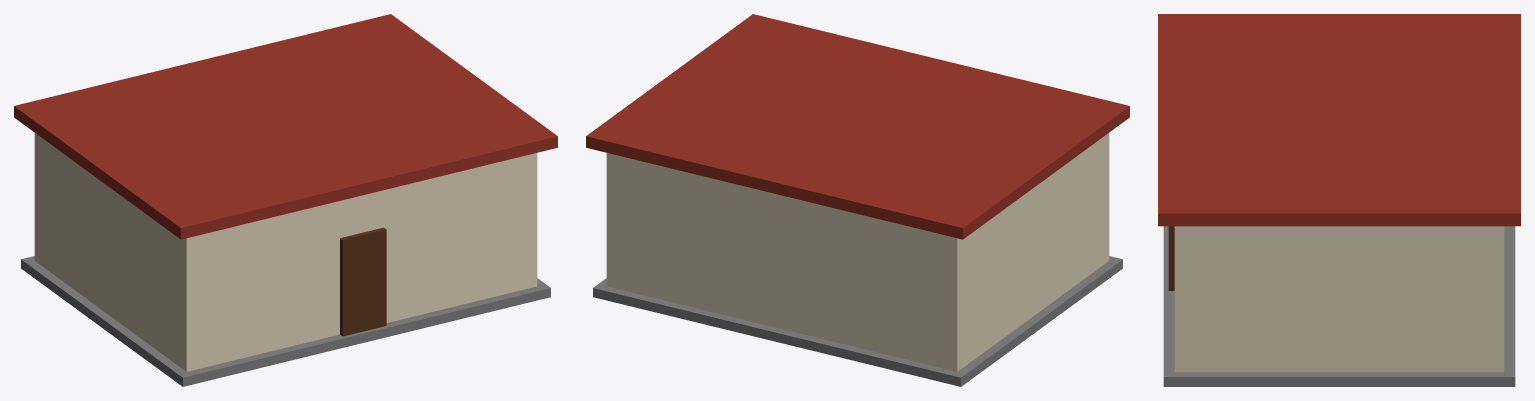
File: maison-test.obj
3 views of the same model, side by side, from view 1: azimuth 30°, elevation 25°; view 2: azimuth 150°, elevation 25°; view 3: azimuth 270°, elevation 25° (orthographic). The views are drawn at different scales.
Visible parts, largest first — view 1: Toit, Murs, Dalle, Porte; view 2: Toit, Murs, Dalle; view 3: Toit, Murs, Dalle, Porte.
Boxes of the visible parts, box(x1,y1,x2,y2) form: Toit: box(14, 14, 557, 239); Murs: box(34, 133, 537, 371); Dalle: box(21, 256, 550, 386); Porte: box(340, 227, 386, 336); Toit: box(586, 14, 1129, 239); Murs: box(606, 133, 1109, 371); Dalle: box(593, 256, 1122, 386); Toit: box(1158, 14, 1520, 226); Murs: box(1174, 226, 1504, 372); Dalle: box(1163, 226, 1515, 386); Porte: box(1168, 226, 1174, 290).
Bounding box in the file's own units: 8.6 × 3.53 × 6.6.
